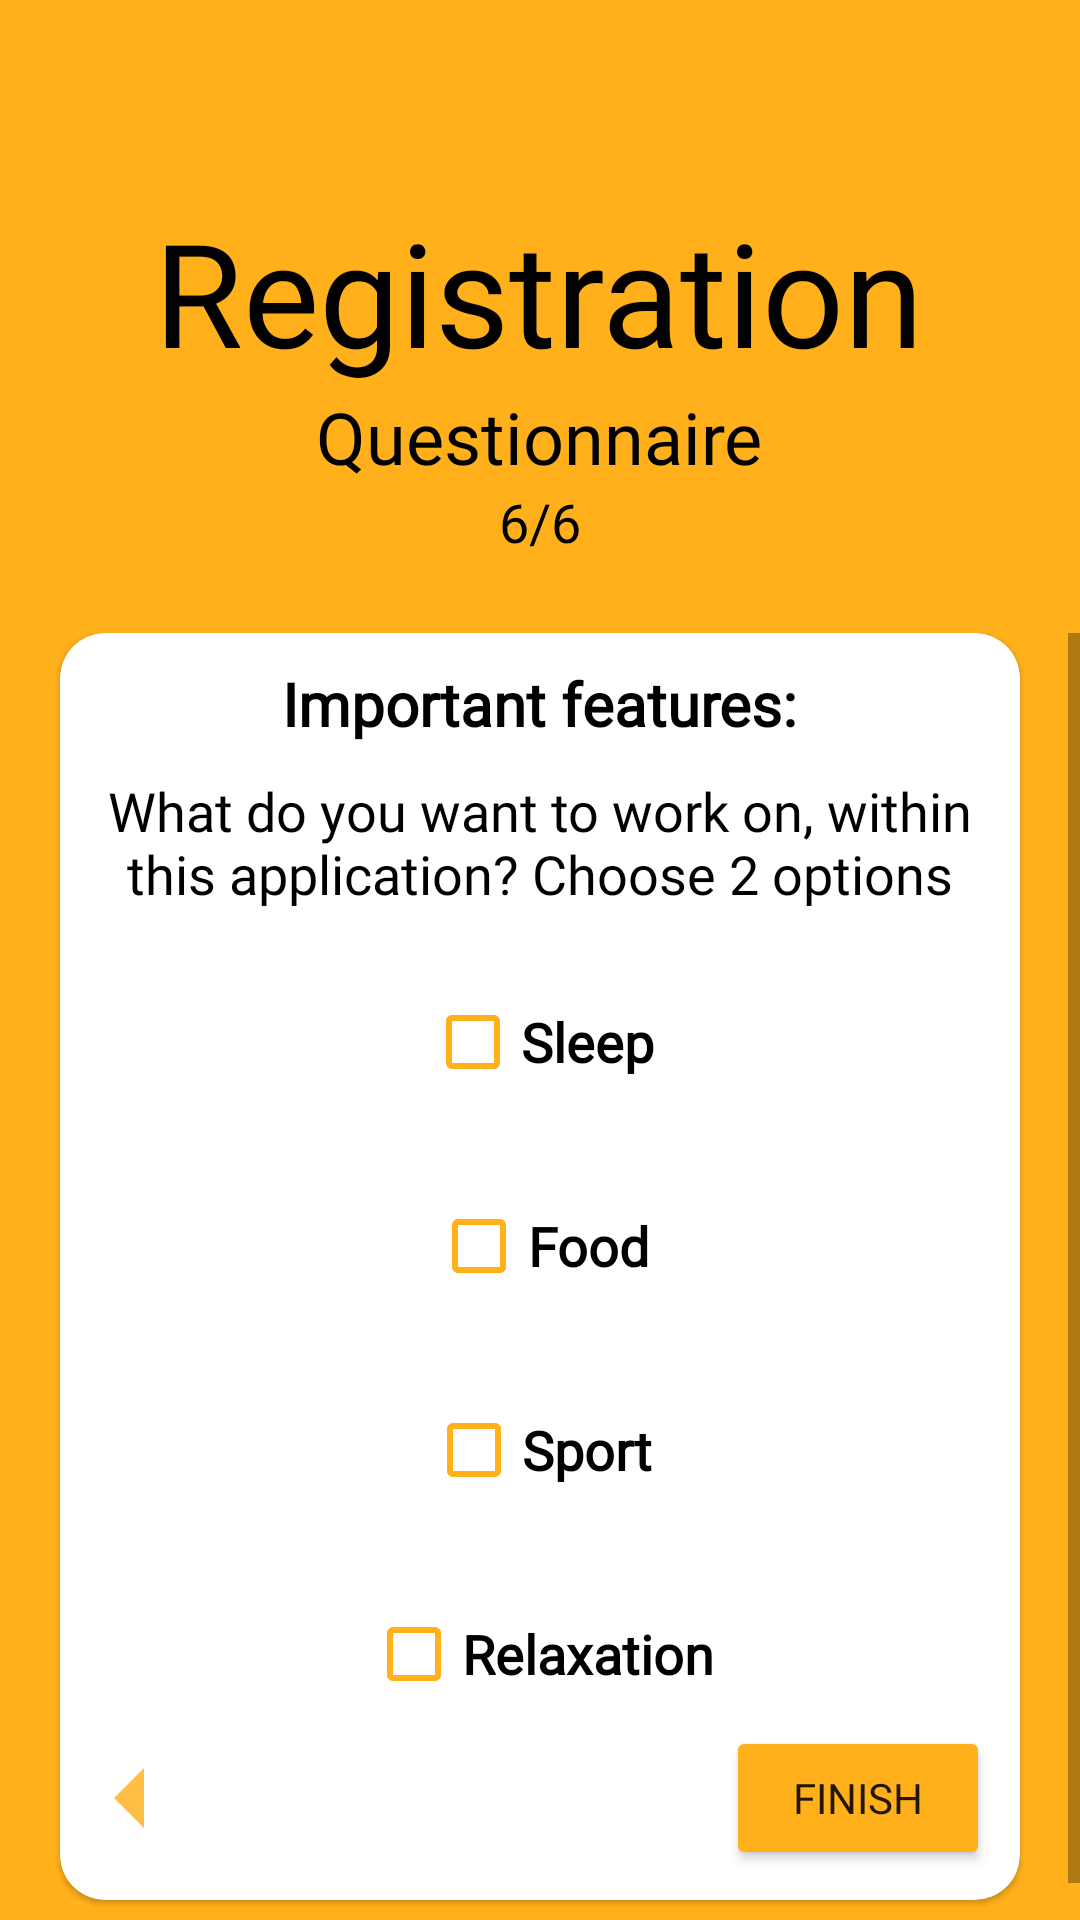

Where to tap for icons on this 1080px x 1920px app screen, as point (x, y):
arrow left: point (129, 1798)
